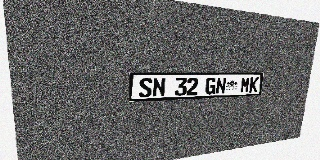plate: (129, 72, 264, 102)
